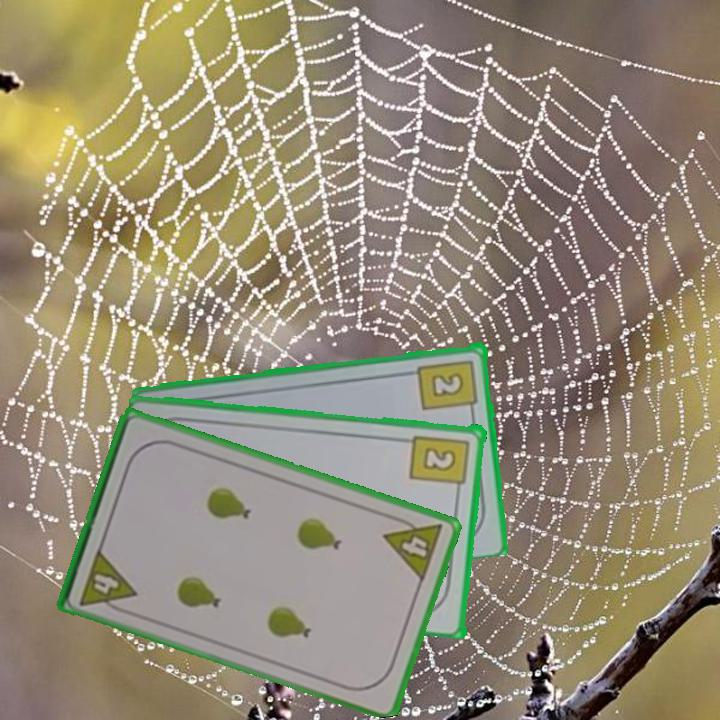2b: (408, 431, 473, 497), (415, 355, 481, 417)
4p: (380, 511, 446, 584), (76, 545, 139, 617)
